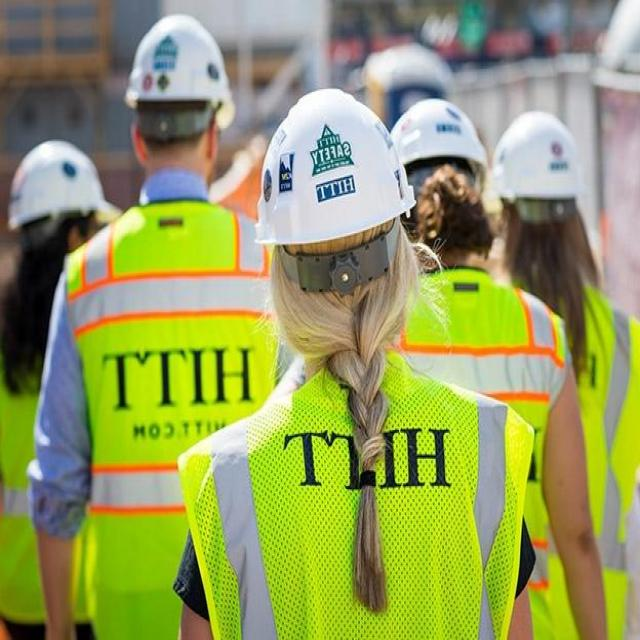Reflective-Jacket: (175, 364, 540, 636), (62, 210, 274, 627), (562, 299, 640, 639)
Safety-Helmet: (252, 87, 414, 250), (122, 10, 238, 128), (2, 132, 112, 233), (490, 105, 589, 209), (392, 94, 489, 174), (590, 0, 639, 99)
